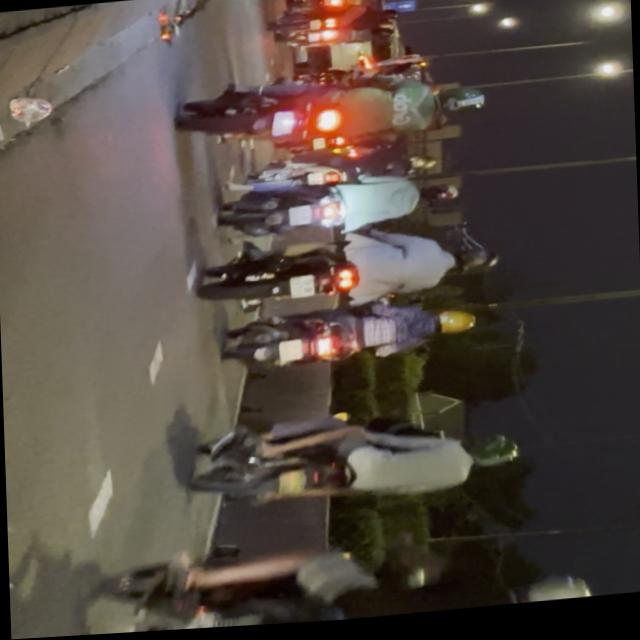helmet: (506, 578, 594, 610), (466, 437, 520, 475), (437, 91, 487, 121), (449, 249, 496, 279), (433, 314, 477, 341)
licenseplate: (56, 514, 601, 637), (182, 402, 524, 522), (176, 62, 490, 161), (198, 220, 500, 322), (220, 297, 478, 379)
nohelmet: (270, 112, 298, 140), (280, 472, 306, 500), (288, 277, 315, 302), (278, 341, 304, 365)
